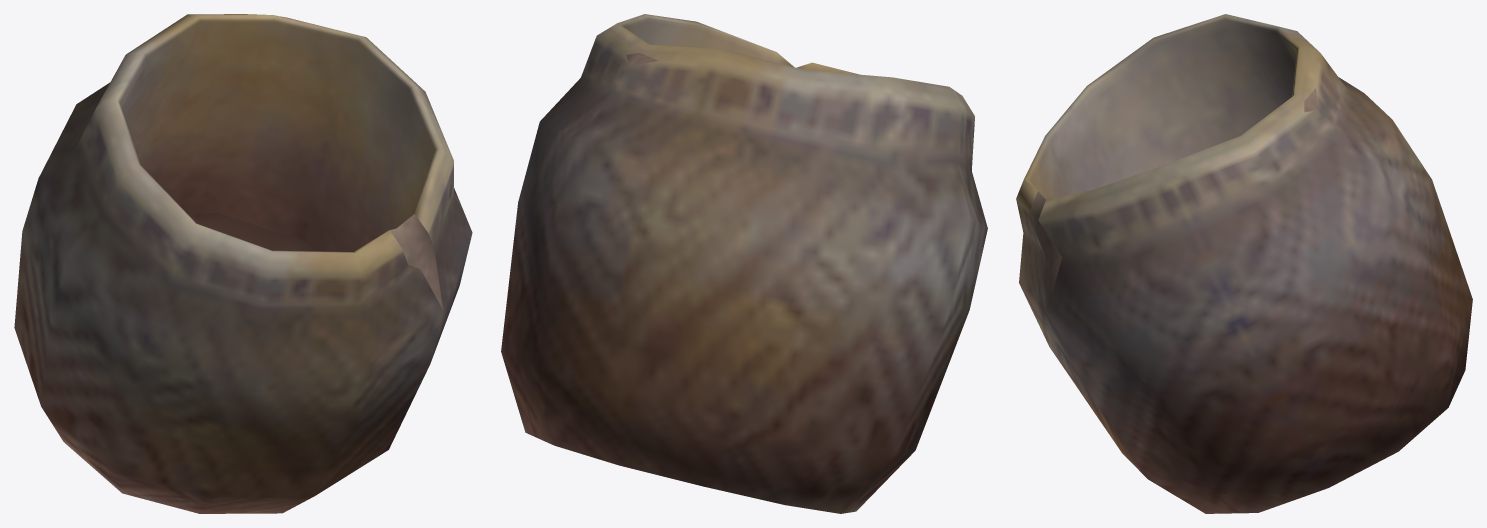
3 renders of one model, left to right at view 1: azimuth 30°, elevation 25°; view 2: azimuth 150°, elevation 25°; view 3: azimuth 270°, elevation 25°, orthographic. The views are drawn at different scales.
Parts seen in each view (by area): view 1: LV_Common_Object_A_Jar03_SM_CNH; view 2: LV_Common_Object_A_Jar03_SM_CNH; view 3: LV_Common_Object_A_Jar03_SM_CNH.
Part boxes in pixels (x1,y1,x2,y2): LV_Common_Object_A_Jar03_SM_CNH: (14, 14, 472, 513); LV_Common_Object_A_Jar03_SM_CNH: (501, 14, 987, 513); LV_Common_Object_A_Jar03_SM_CNH: (1016, 14, 1472, 513).
Bounding box in the file's own units: 0.1989 × 0.2294 × 0.218.
Materials: 1 (1 with a texture image).
